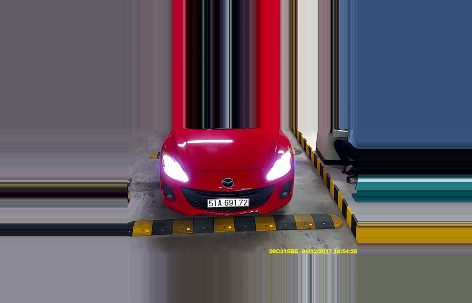plate: (206, 195, 249, 210)
